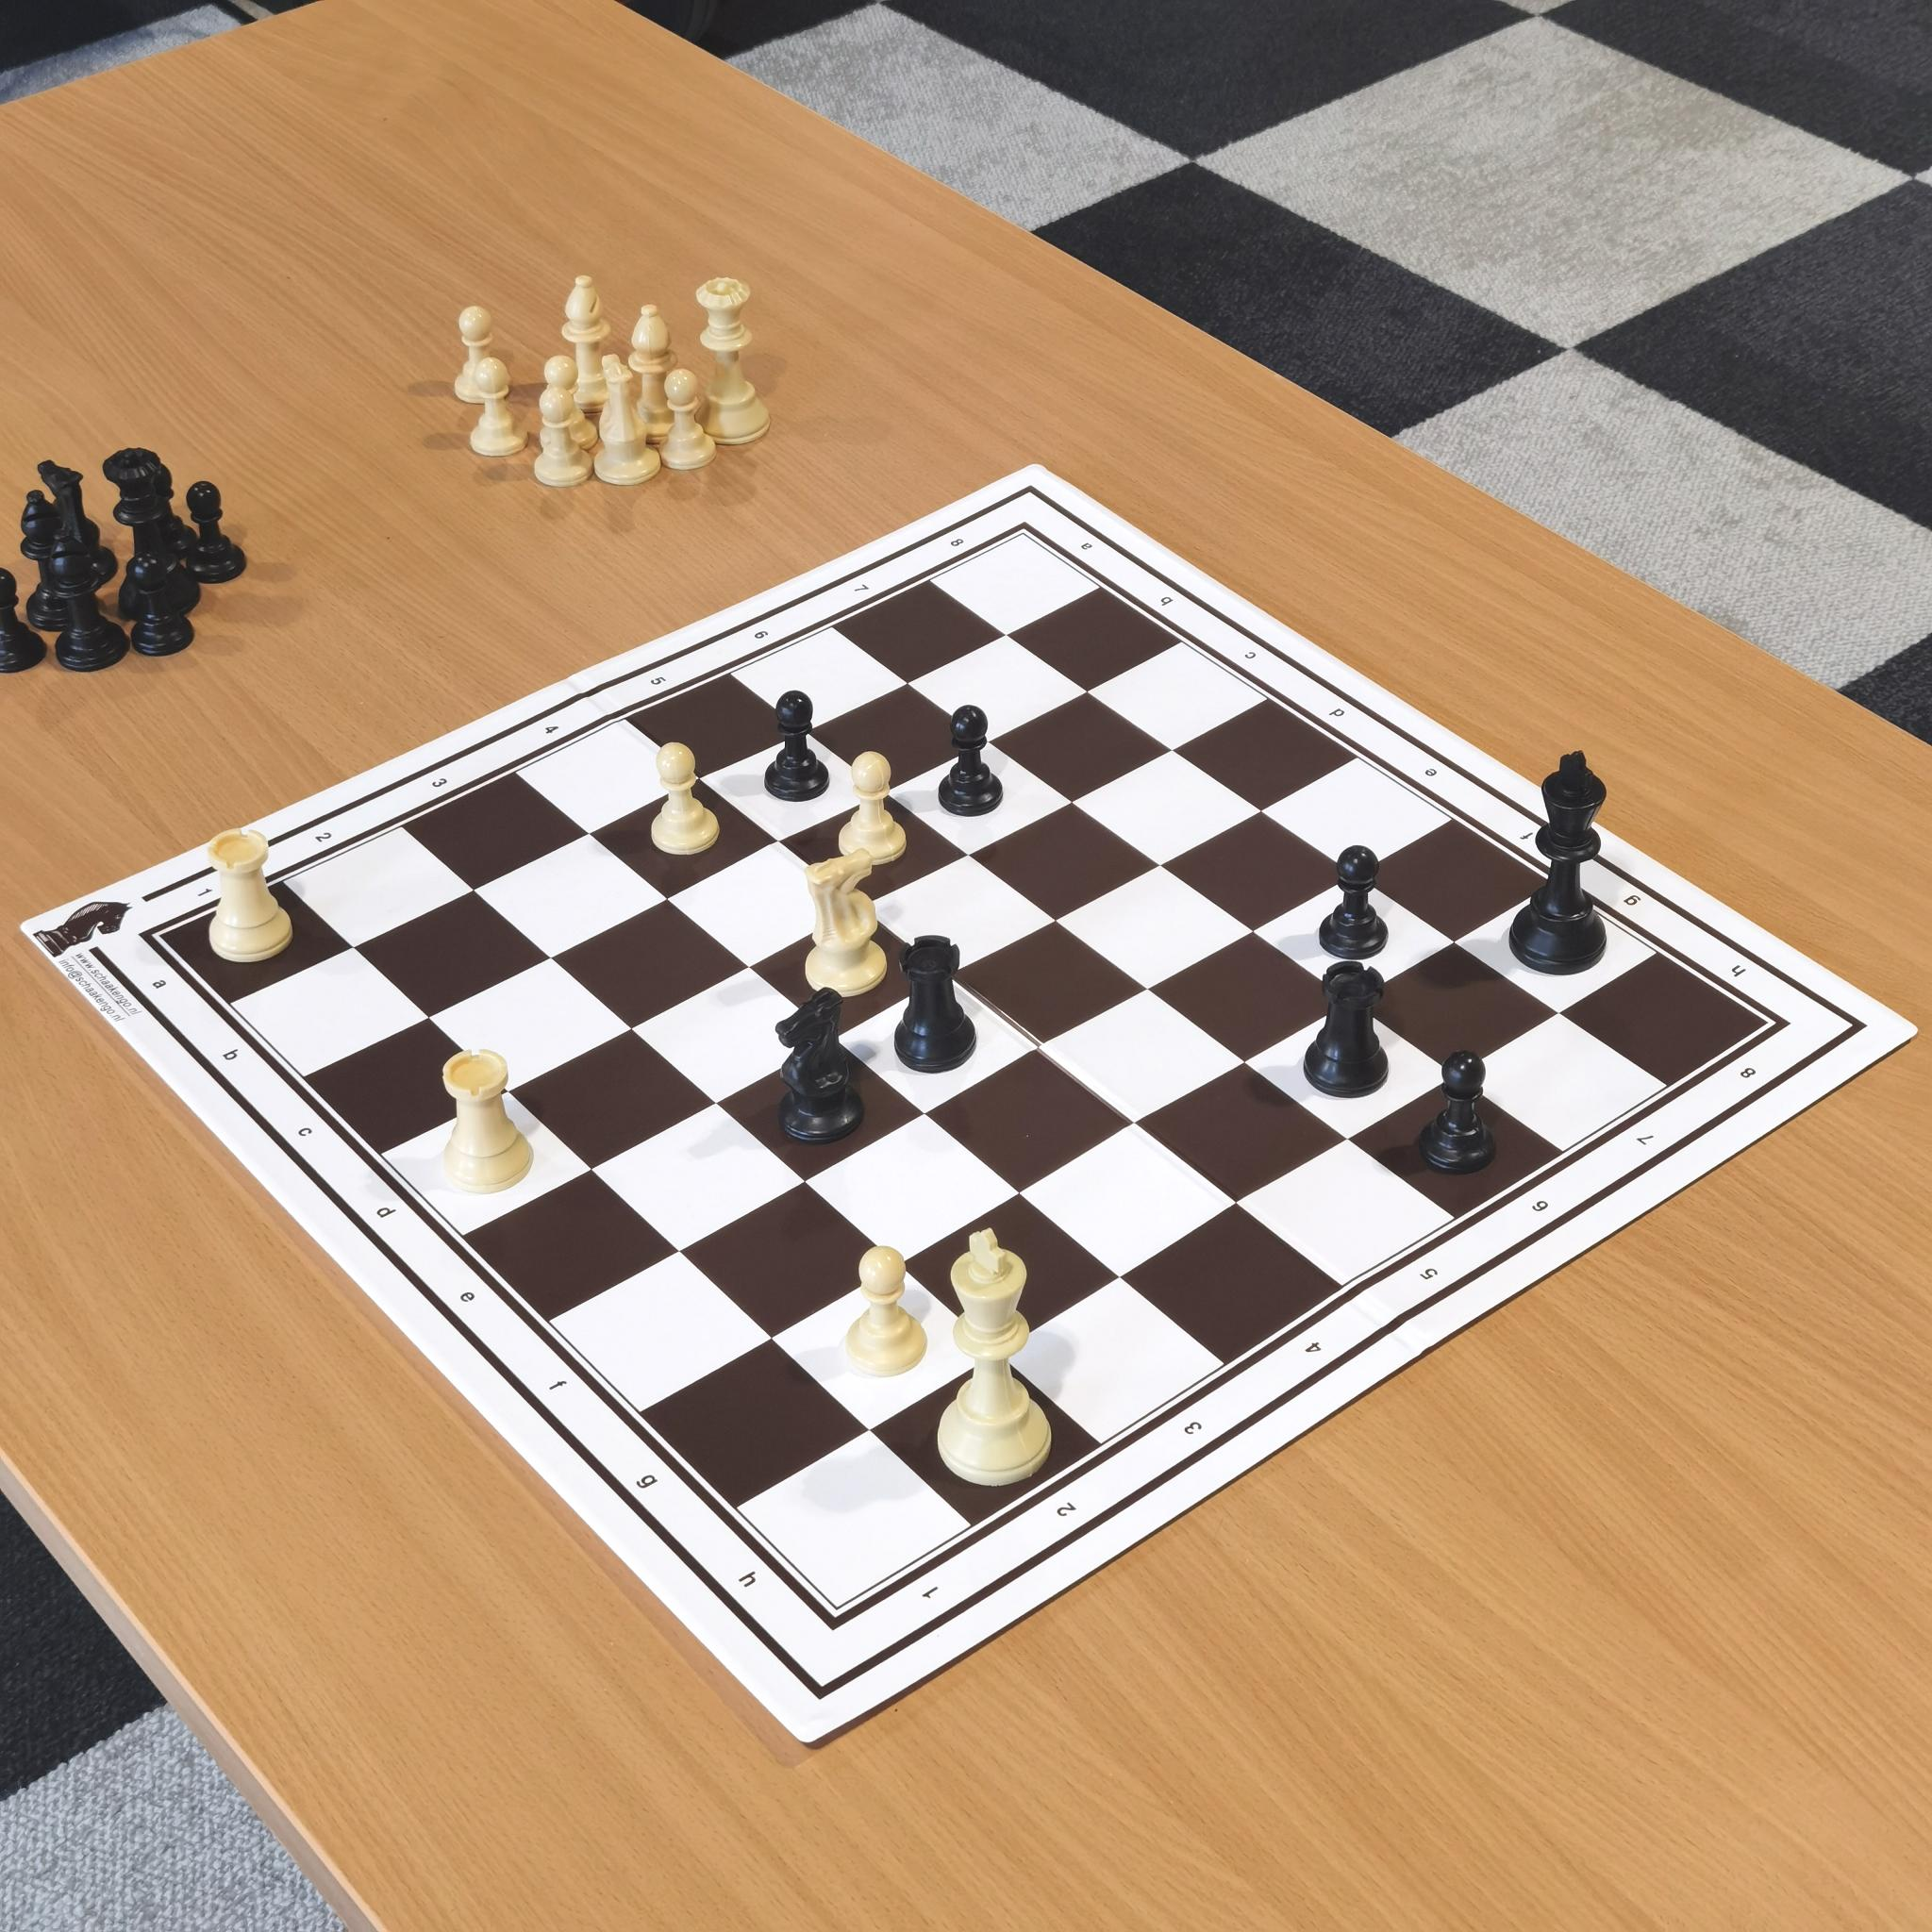corners: (809, 1585, 870, 1645), (134, 920, 195, 968), (1746, 1003, 1808, 1047), (1005, 517, 1056, 559)
eight: (1721, 1046, 1773, 1099), (932, 517, 980, 559)
one: (906, 1564, 964, 1619), (195, 869, 226, 908)
